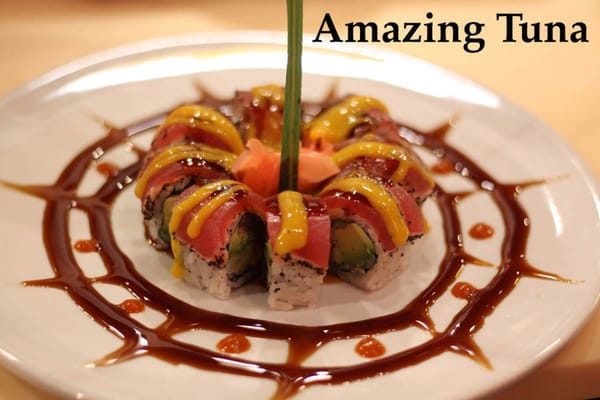curry: (2, 0, 595, 392)
